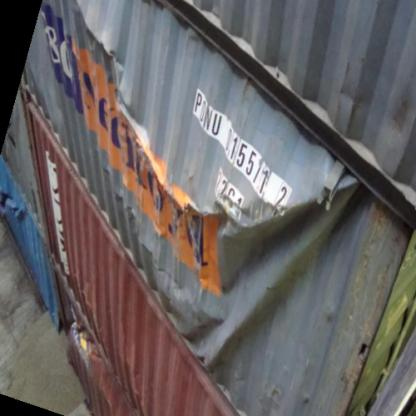Damage: (76, 14, 201, 224), (248, 160, 359, 312), (153, 194, 245, 374)
